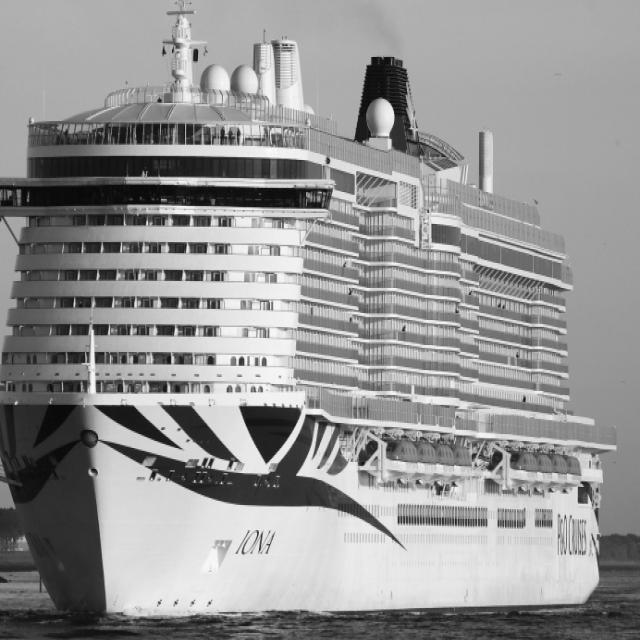cruises: (1, 1, 623, 639)
